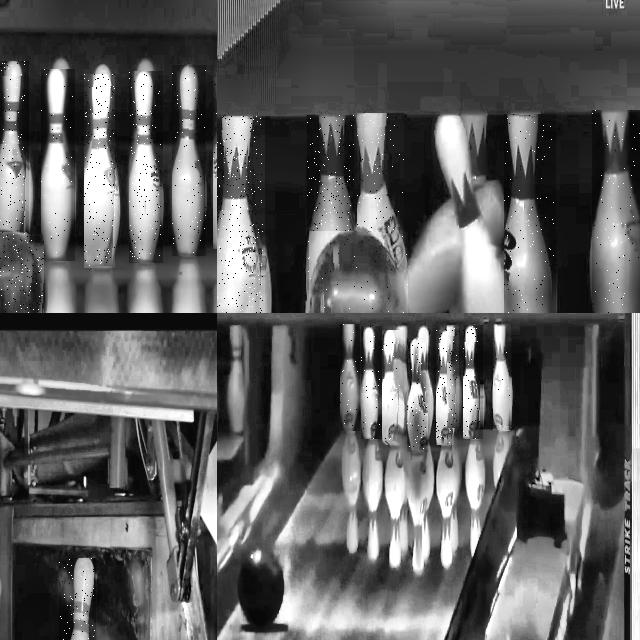bowling-ball: (310, 233, 408, 313), (238, 549, 284, 628), (0, 235, 44, 313)
bowling-pins: (504, 114, 554, 313), (592, 110, 640, 313), (217, 116, 263, 313), (308, 116, 354, 289), (357, 114, 404, 264), (172, 65, 206, 255), (41, 69, 73, 261), (129, 71, 161, 262), (84, 74, 115, 267), (0, 61, 27, 235), (408, 338, 427, 452), (463, 325, 481, 439), (436, 331, 454, 444), (362, 326, 380, 439), (341, 324, 359, 430), (383, 331, 400, 442), (227, 324, 244, 432), (418, 325, 434, 438), (74, 558, 95, 640), (494, 325, 510, 430), (396, 325, 410, 412), (448, 325, 457, 428)
